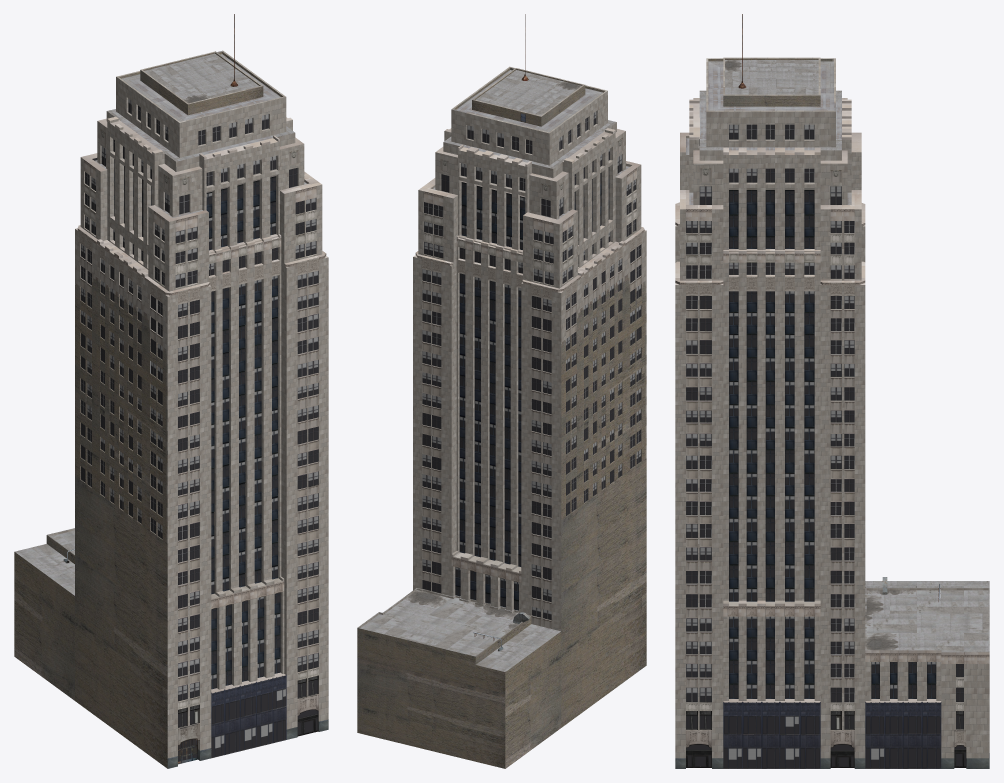
The model's file is rand_tower.glb.
The picture shows the model from 3 angles, left to right: view 1: azimuth 30°, elevation 25°; view 2: azimuth 150°, elevation 25°; view 3: azimuth 270°, elevation 25°; orthographic projection. The views are drawn at different scales.
Parts seen in each view (by area): view 1: skfb_offset; view 2: skfb_offset; view 3: skfb_offset.
Boxes of the visible parts, x1,y1,x2,y2 form: skfb_offset: (14,14,328,768); skfb_offset: (357,14,646,768); skfb_offset: (675,14,989,768).
Size of the model in its own units: 2601 by 10932 by 4300.
1 material, 1 textured.
